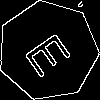E: (23, 26, 81, 79)
